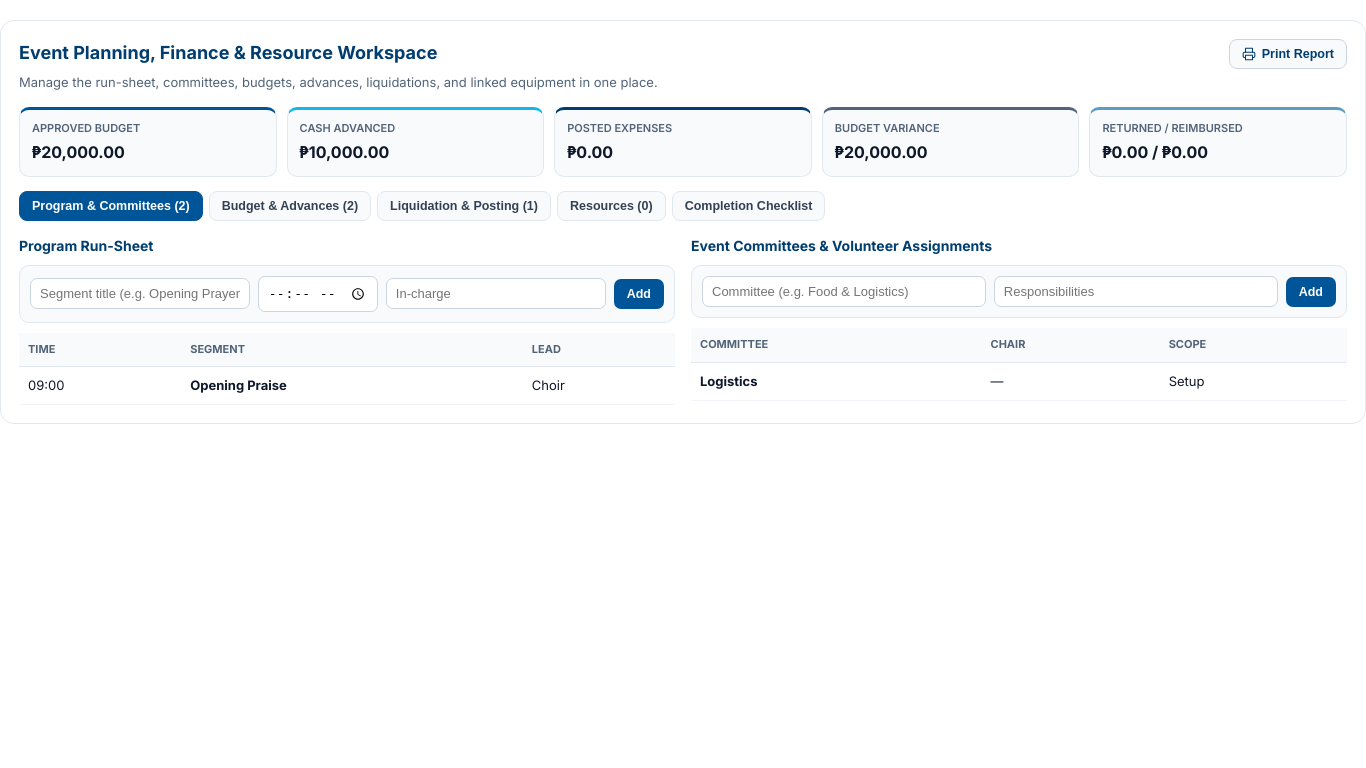
it: EventWorkspacePanel › renders financial reconciliation strip and switches across workspace tabs
The image size is (1366, 768).
Expected: the text "Opening Praise" is shown, [190,377,287,393]
Expected: the text "Logistics" is shown, [700,373,758,389]
Click the tab "Budget & Advances (2)".
click(290, 206)  # box [209,191,371,221]
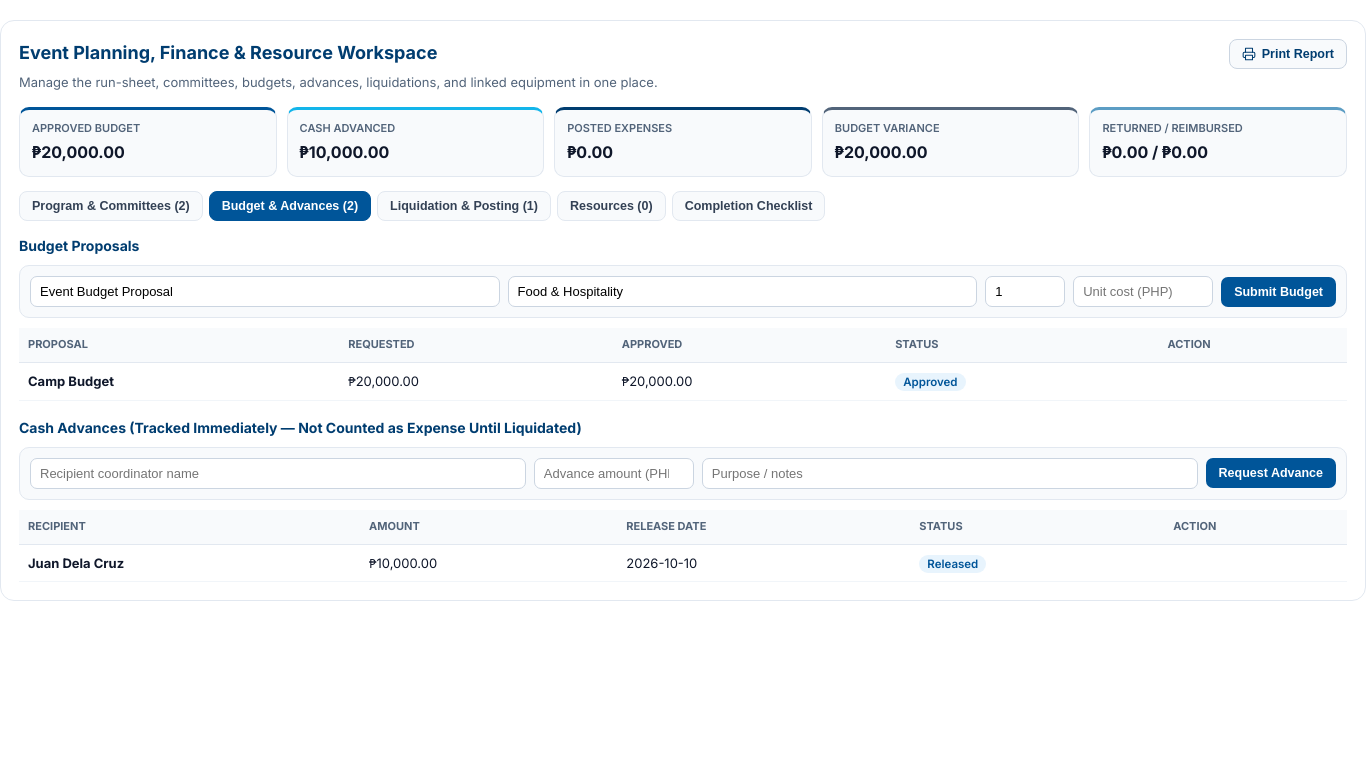
Expected: the text "Camp Budget" is shown, [28,373,114,389]
Expected: the text "Juan Dela Cruz" is shown, [28,554,124,570]
Click the tab "Liquidation & Posting (1)".
click(464, 206)  # box [377,191,551,221]
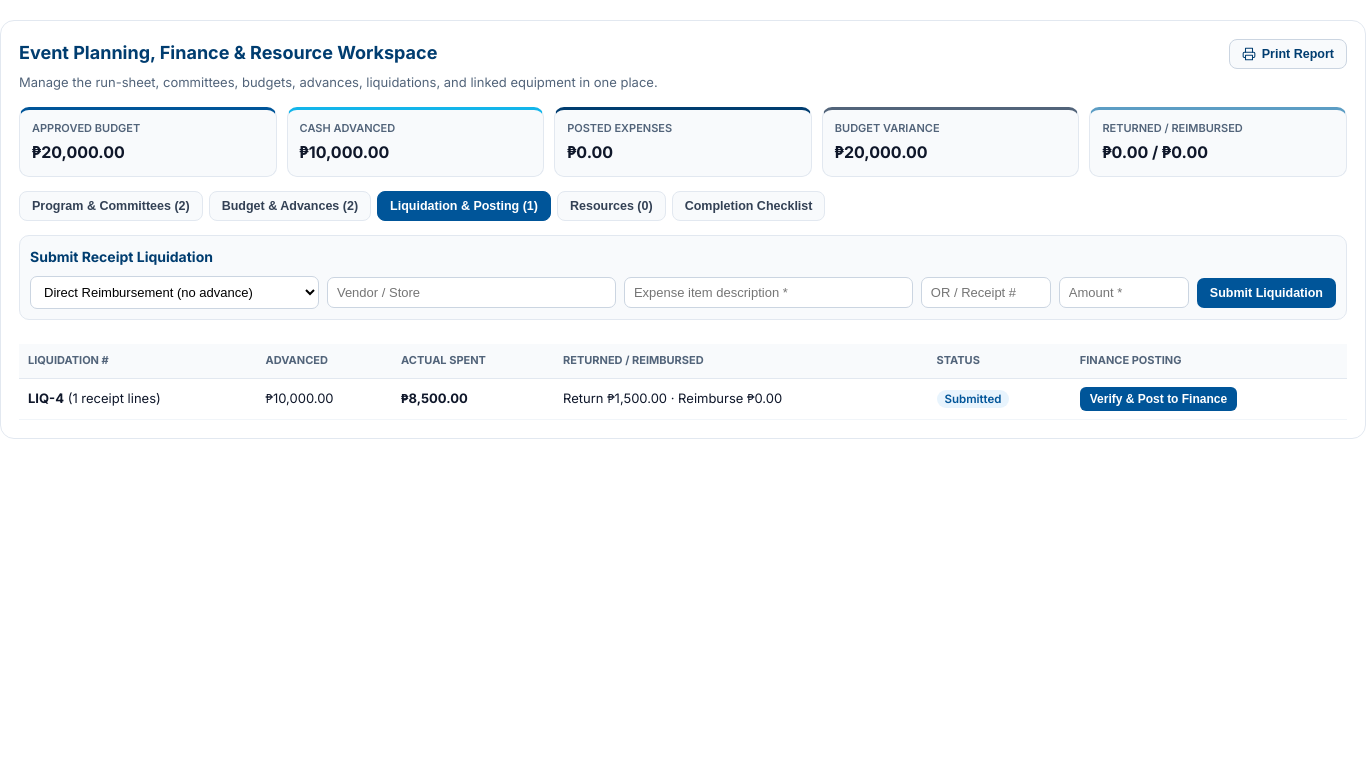
Expected: the button "Verify & Post to Finance" is shown, [1080,387,1237,411]
